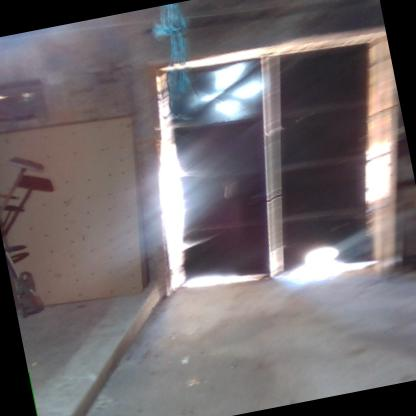closed: (125, 8, 415, 310)
